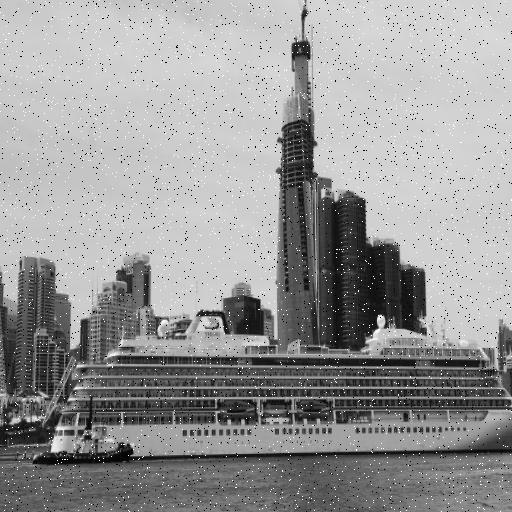cruises: (47, 309, 512, 462)
